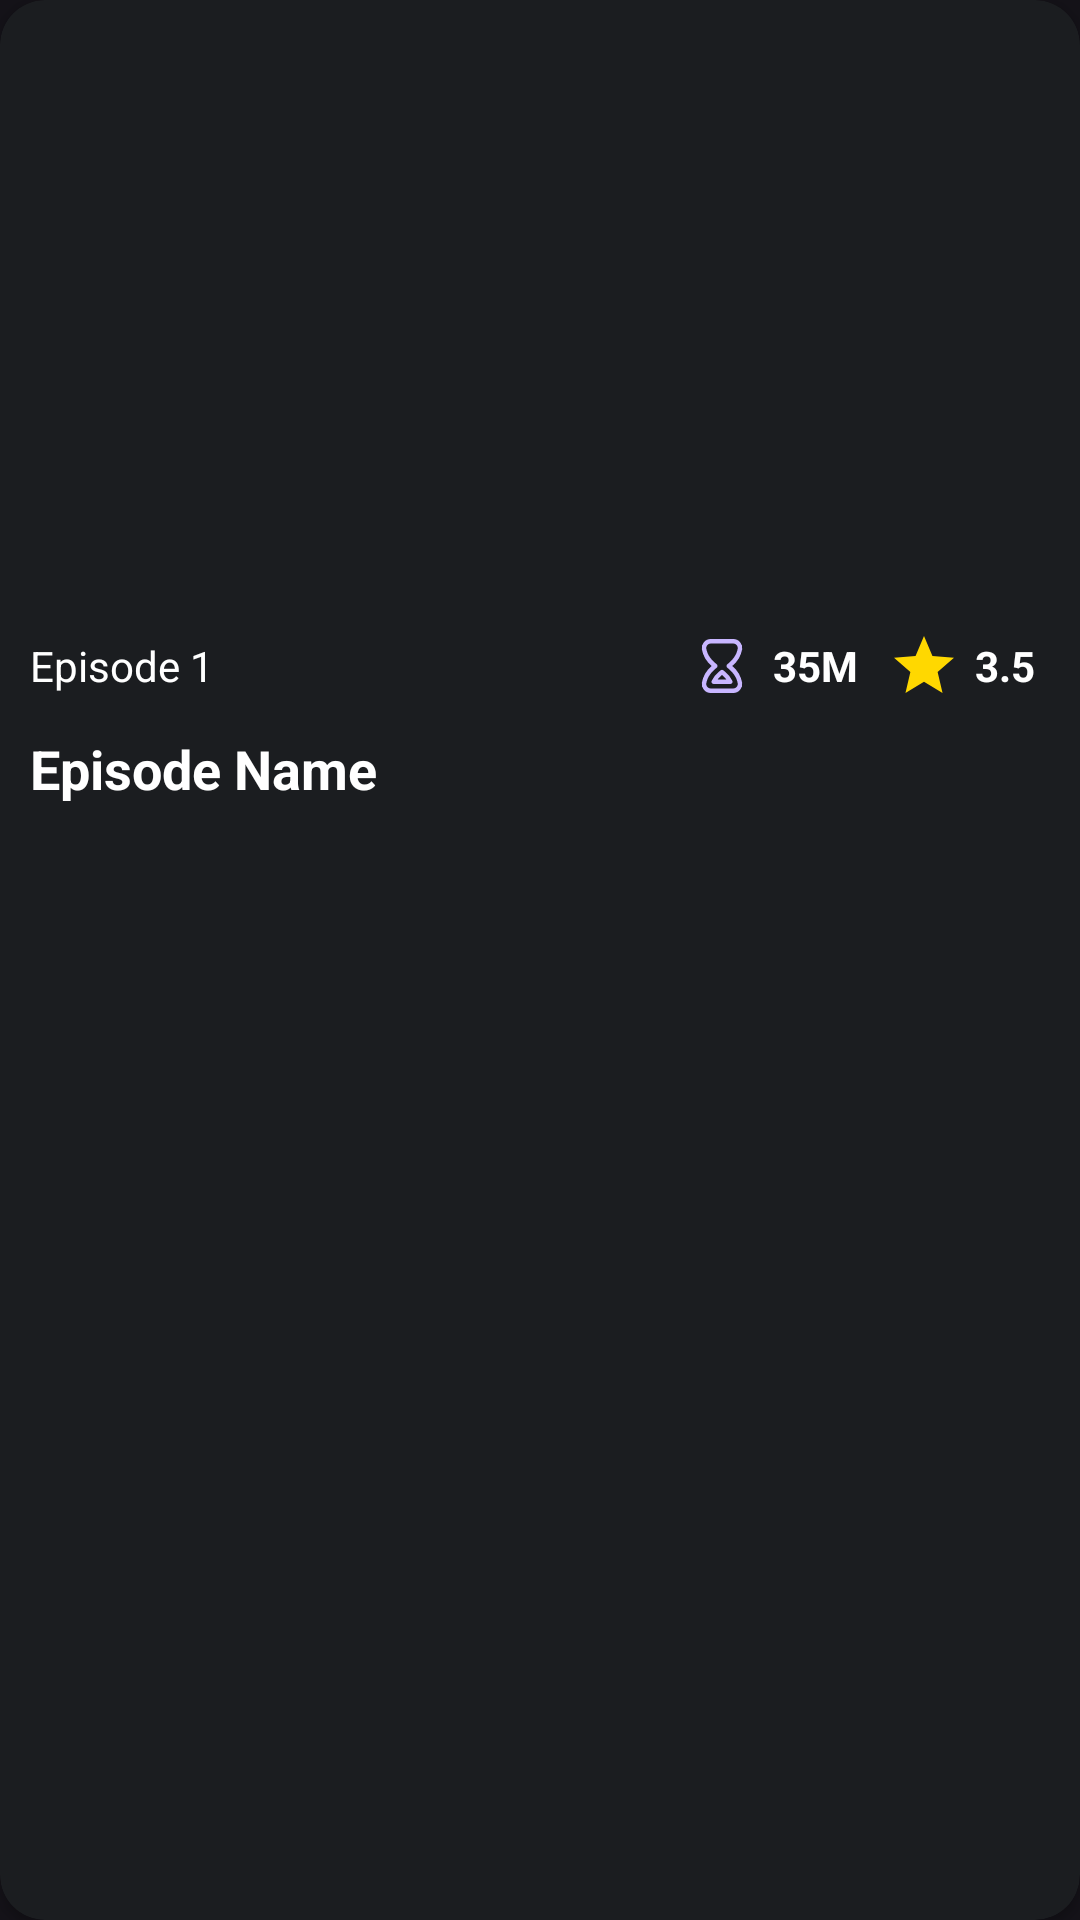

Where icons sit on this 1080px×1920px app screen, as (x1, y1, x2, y2):
hourglass end: (702, 639, 743, 693)
star: (894, 636, 954, 693)
